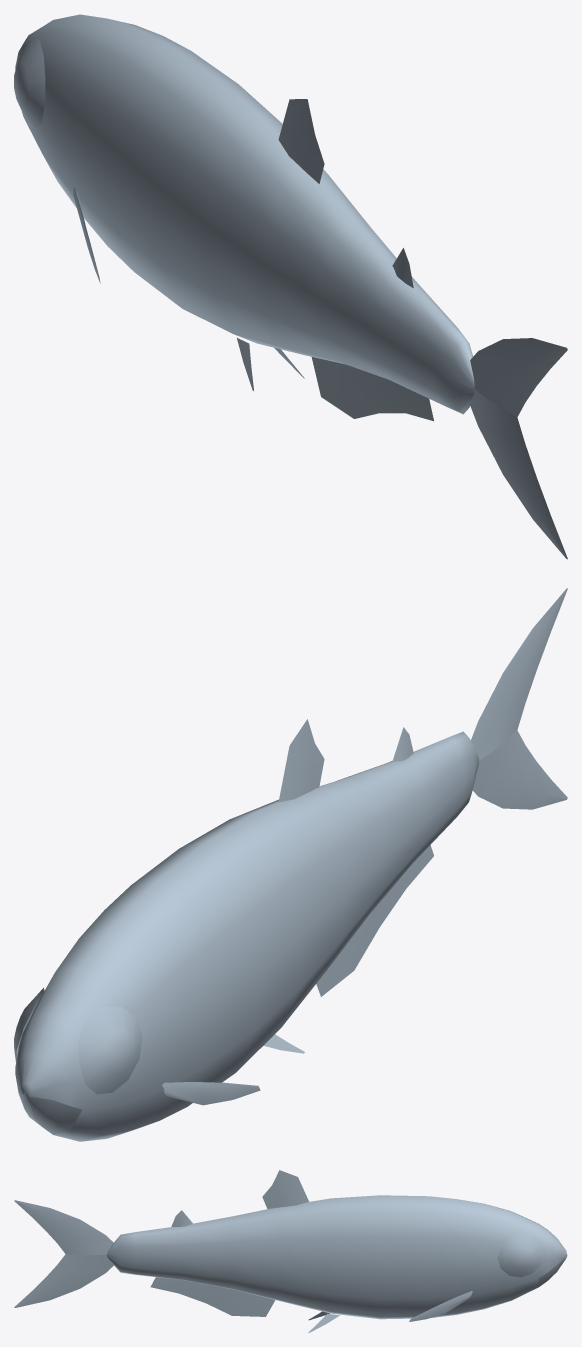
File: cardinal_tetra_game.glb
3 renders of one model, top to bottom at view 1: azimuth 30°, elevation 25°; view 2: azimuth 150°, elevation 25°; view 3: azimuth 270°, elevation 25°, orthographic. The views are drawn at different scales.
Parts seen in each view (by area): view 1: cardinal_tetra_game; view 2: cardinal_tetra_game; view 3: cardinal_tetra_game.
Part boxes in pixels (x1,y1,x2,y2): cardinal_tetra_game: [14, 14, 567, 559]; cardinal_tetra_game: [14, 588, 567, 1141]; cardinal_tetra_game: [14, 1170, 567, 1332].
Size of the model in its own units: 0.00713 by 0.0131 by 0.0419.
